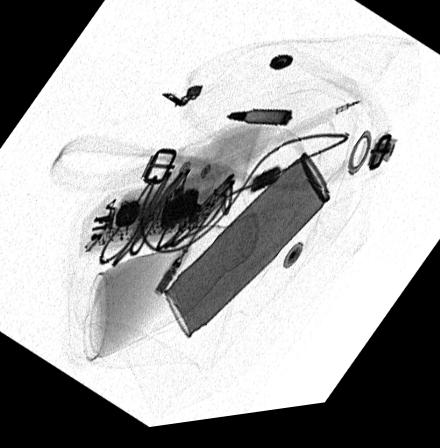Bullet: (225, 114, 291, 135)
